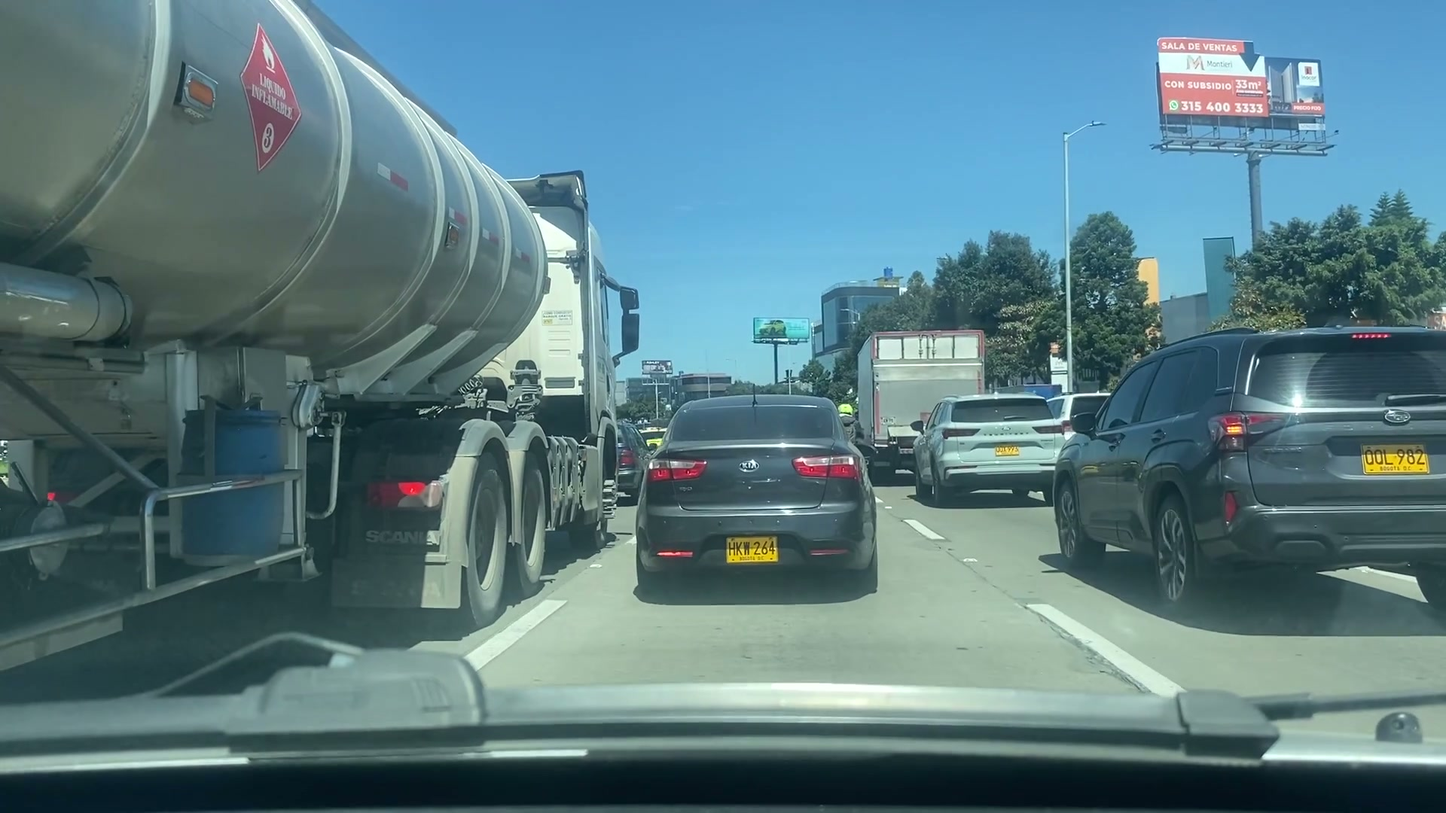car: (1051, 326, 1446, 603), (637, 397, 879, 597), (912, 395, 1069, 499), (610, 422, 658, 508)
truck: (0, 0, 640, 700), (853, 328, 984, 475)
